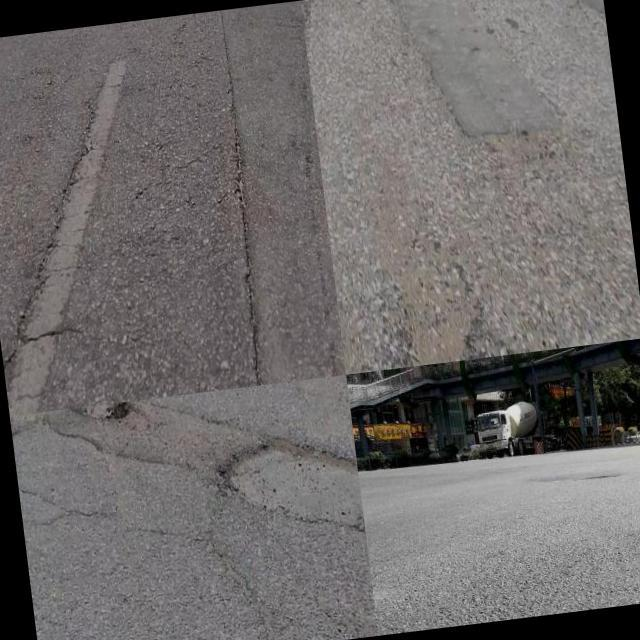Pothole: (220, 438, 365, 534), (391, 240, 484, 367), (70, 401, 129, 425)
